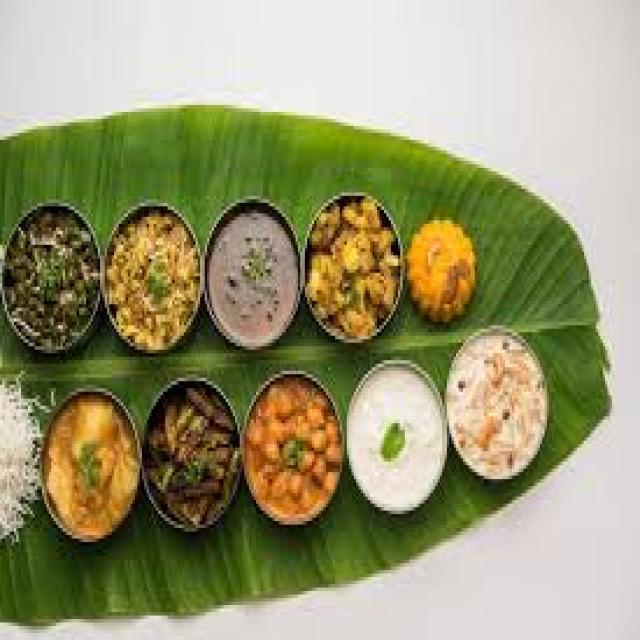dal: (105, 214, 202, 345)
rice: (1, 374, 42, 545)
sweet: (339, 369, 451, 513), (203, 205, 307, 351)
veg-fry: (235, 376, 354, 526), (442, 328, 550, 483), (39, 387, 141, 541)
